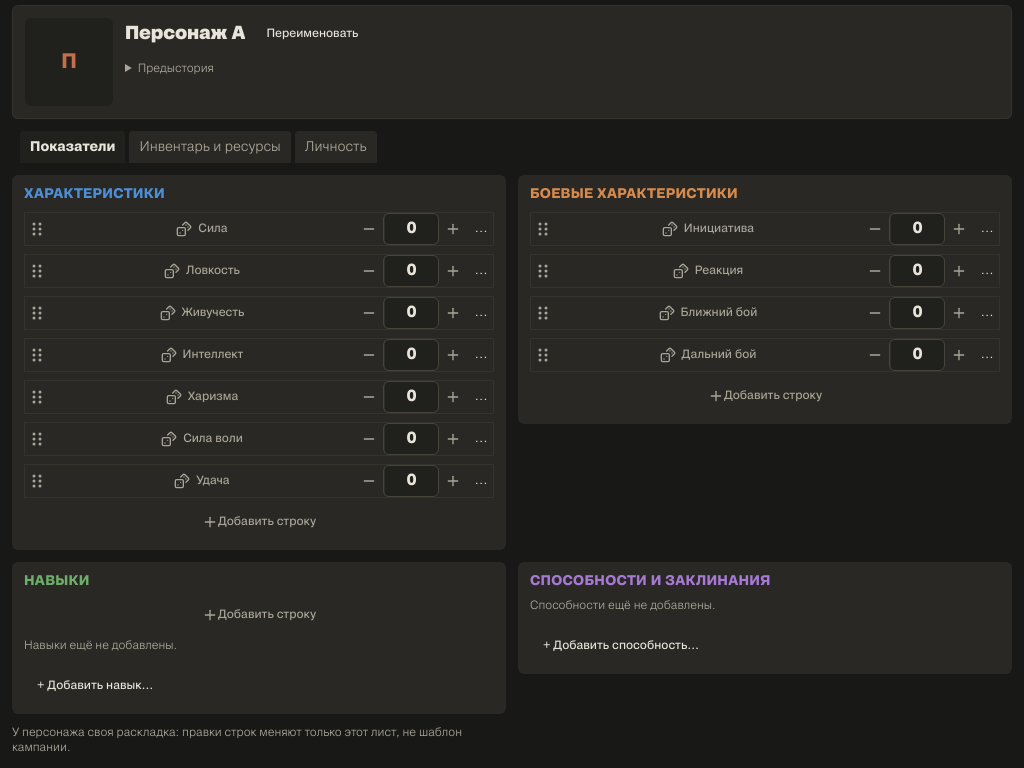
Test: character action feedback › keeps resources, wallet, rest, inventory, and notes together
The image size is (1024, 768).
Click the tab "Инвентарь и ресурсы".
click(210, 147)  # box [130,131,291,163]
(page scrolled)
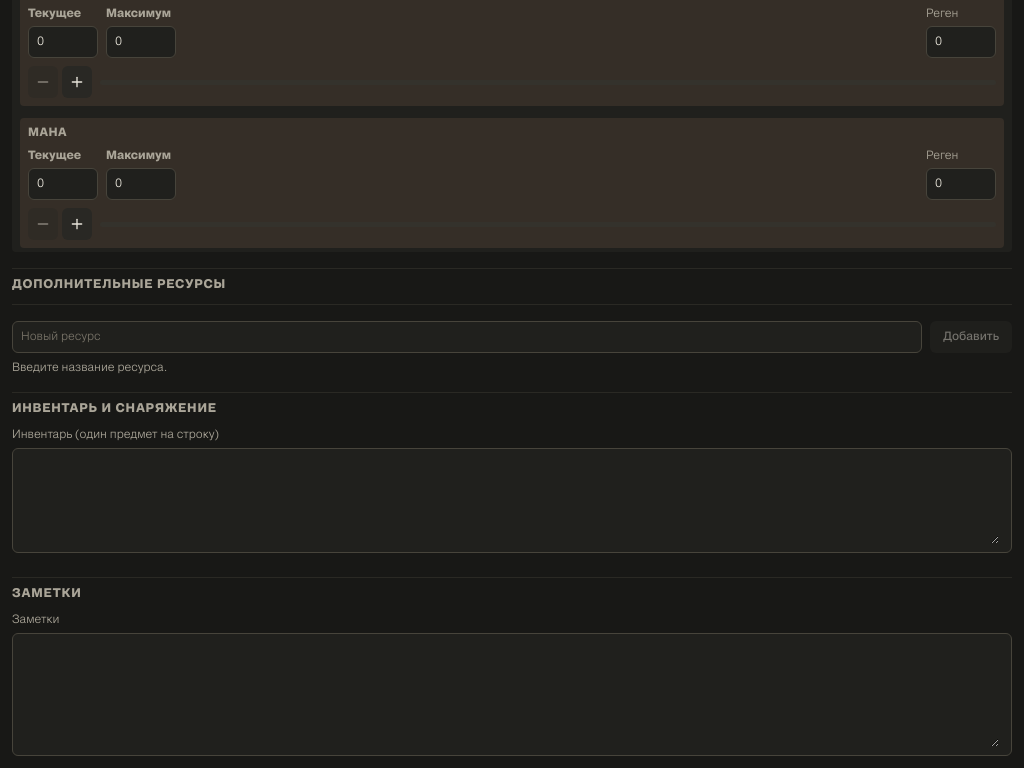
Now the heading "Дополнительные ресурсы" is shown, box [12,268,1012,292]
Now the text box labelled "Инвентарь (один предмет на строку)" is shown, box [25,457,999,544]
Now the text box labelled "Заметки" is shown, box [25,642,999,747]
